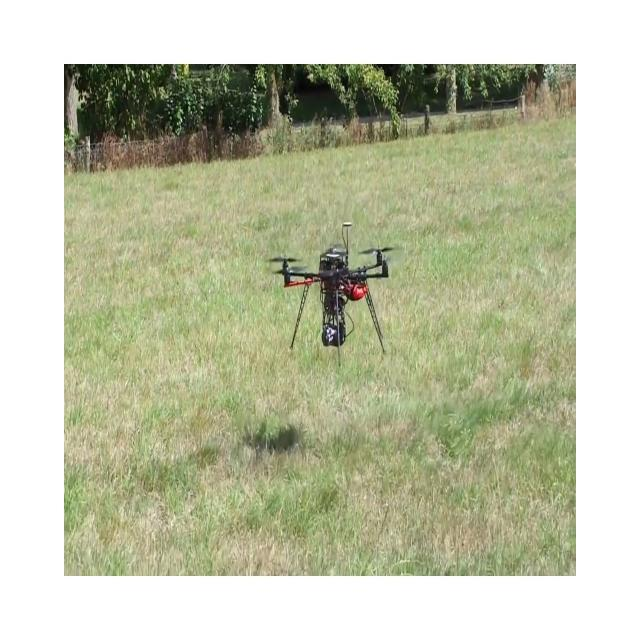drone: (264, 220, 396, 366)
